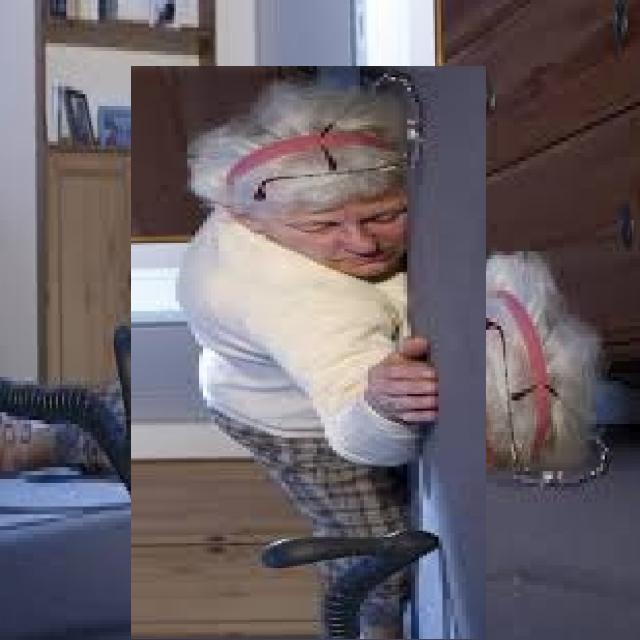Fall: (129, 68, 475, 636)
